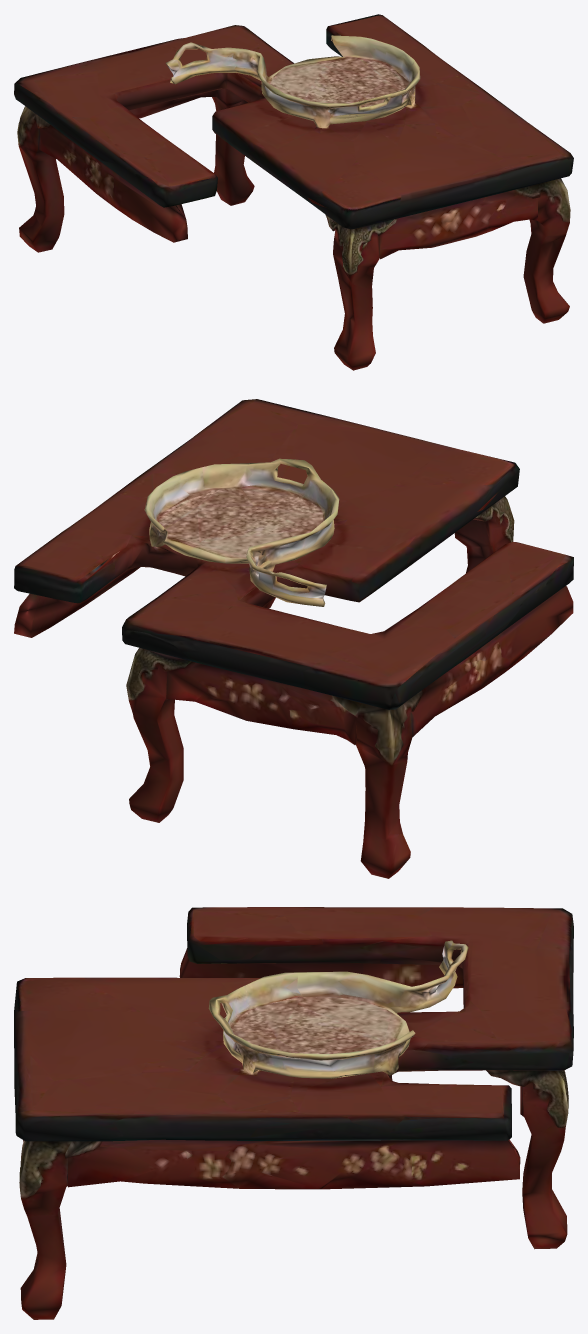
File: au_furn_table_imperial.glb
3 renders of one model, top to bottom at view 1: azimuth 30°, elevation 25°; view 2: azimuth 150°, elevation 25°; view 3: azimuth 270°, elevation 25°, orthographic. The views are drawn at different scales.
Visible parts, largest first — view 1: tripo_node_242d13dc-0259-41fe-a773-cfce3384b4dd; view 2: tripo_node_242d13dc-0259-41fe-a773-cfce3384b4dd; view 3: tripo_node_242d13dc-0259-41fe-a773-cfce3384b4dd.
Part boxes in pixels (box(x1,y1,x2,y2)): tripo_node_242d13dc-0259-41fe-a773-cfce3384b4dd: box(14, 14, 573, 370); tripo_node_242d13dc-0259-41fe-a773-cfce3384b4dd: box(14, 399, 573, 878); tripo_node_242d13dc-0259-41fe-a773-cfce3384b4dd: box(14, 907, 573, 1319).
Bounding box in the file's own units: 0.8837 × 0.4848 × 0.9797.
1 material, 1 textured.
